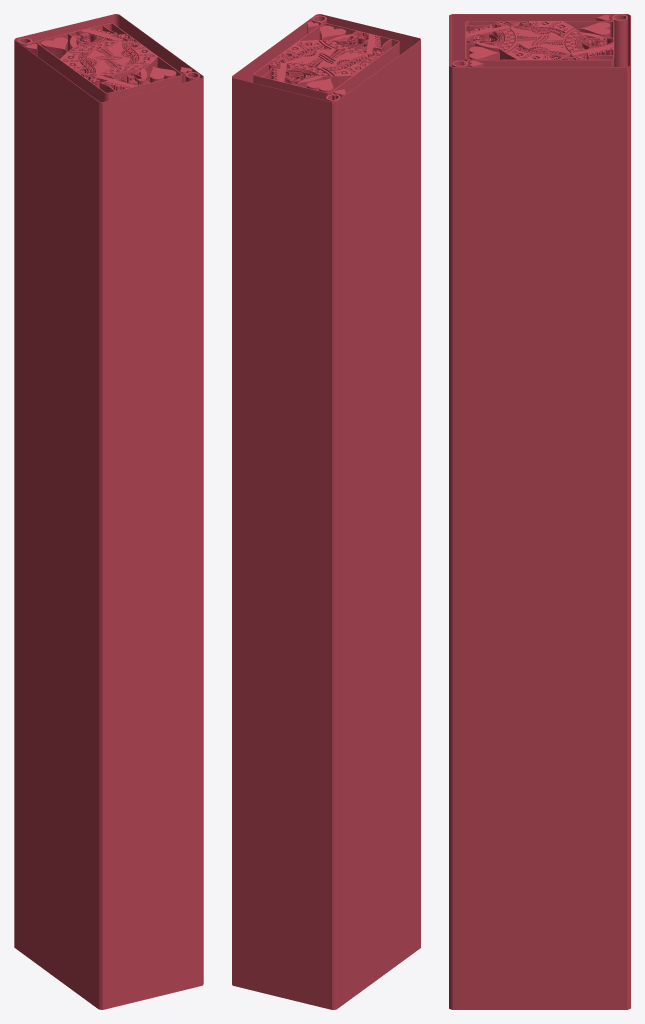
Rendered from 12_hearts.glb.
3 renders of one model, left to right at view 1: azimuth 30°, elevation 25°; view 2: azimuth 150°, elevation 25°; view 3: azimuth 270°, elevation 25°, orthographic. The views are drawn at different scales.
Visible parts, largest first — view 1: Mesh_Mesh_head_geo.001_lambert2SG.001; view 2: Mesh_Mesh_head_geo.001_lambert2SG.001; view 3: Mesh_Mesh_head_geo.001_lambert2SG.001.
Boxes of the visible parts, x1=… form: Mesh_Mesh_head_geo.001_lambert2SG.001: x1=14, y1=14, x2=203, y2=1009; Mesh_Mesh_head_geo.001_lambert2SG.001: x1=232, y1=14, x2=420, y2=1009; Mesh_Mesh_head_geo.001_lambert2SG.001: x1=449, y1=14, x2=630, y2=1009.
Bounding box in the file's own units: 1.21 × 10 × 1.75.
